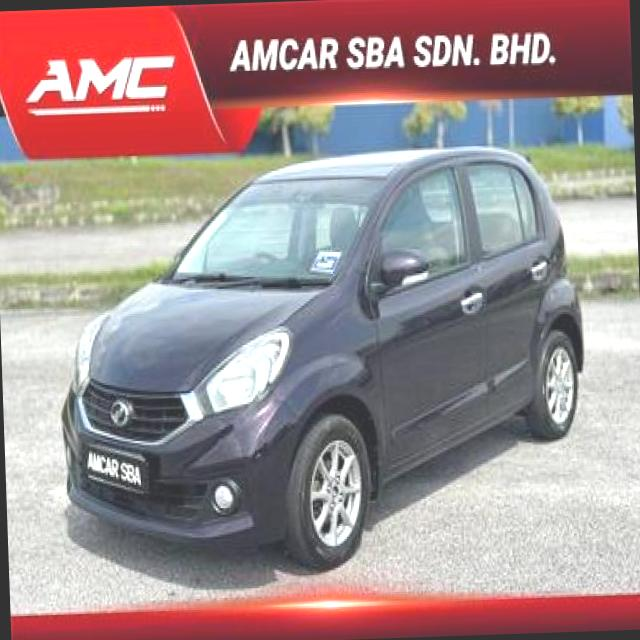PeroduaMyvi: (50, 138, 591, 579)
